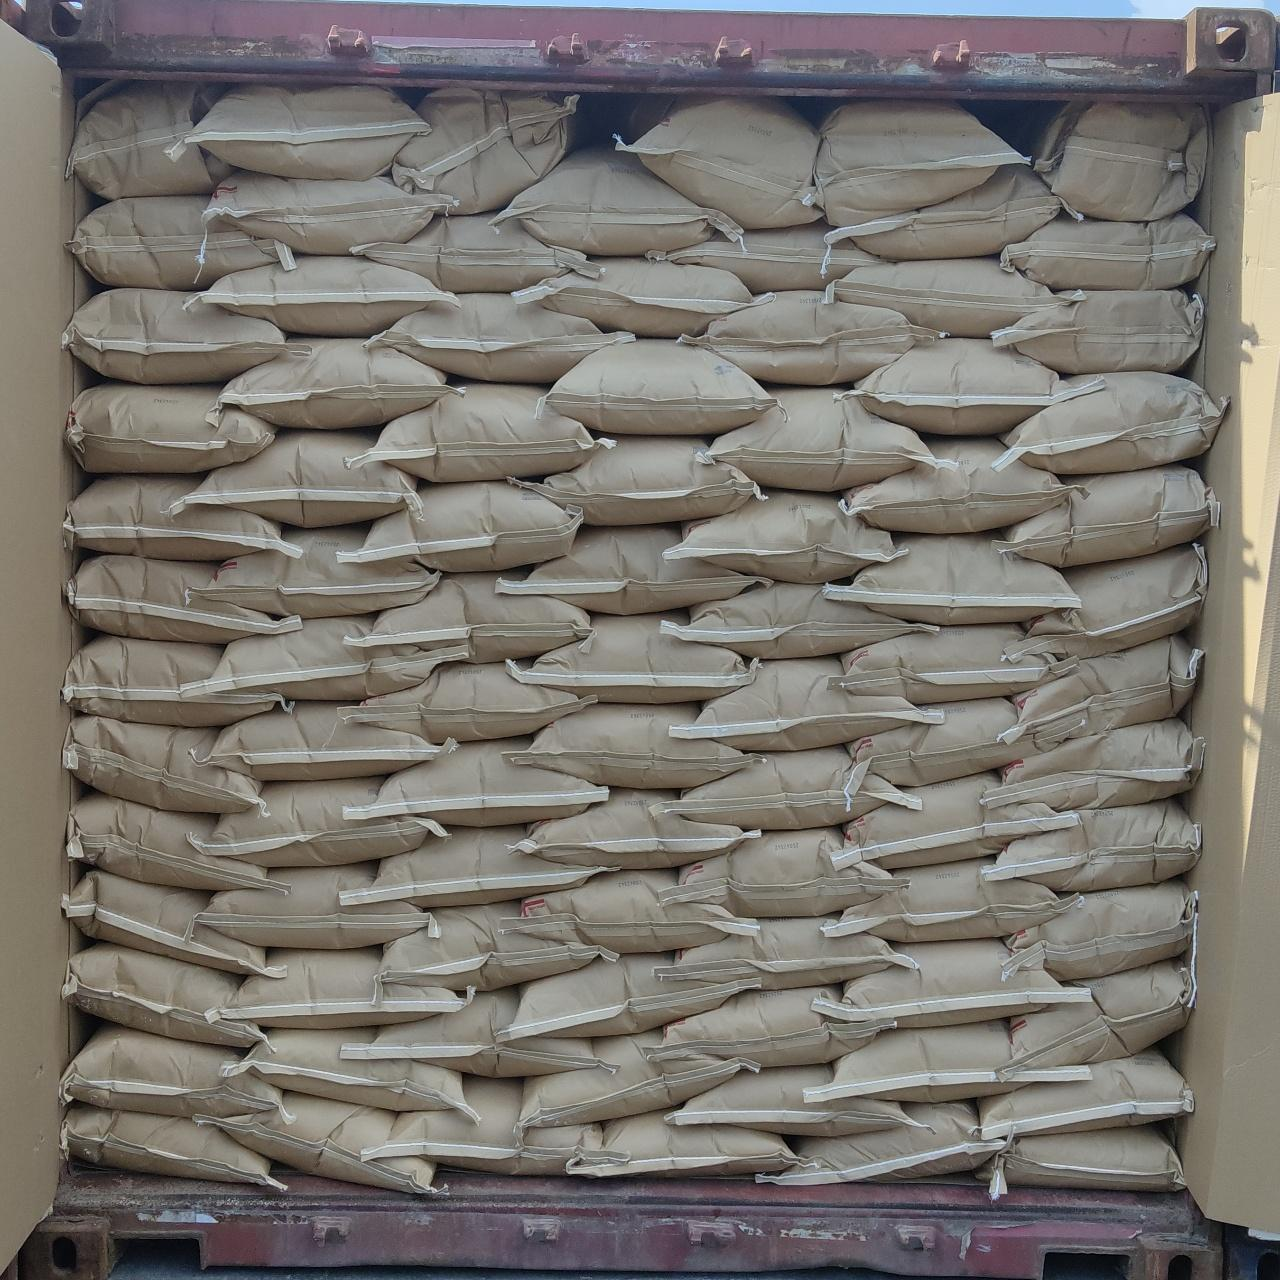sack: (822, 163, 1083, 278), (342, 383, 617, 483), (489, 147, 742, 254), (614, 97, 821, 229), (515, 1029, 760, 1139), (697, 388, 956, 491), (815, 101, 1028, 225), (835, 338, 1104, 434), (362, 1080, 629, 1175), (1000, 951, 1194, 1081), (670, 658, 942, 750), (164, 430, 422, 527), (1003, 542, 1207, 663), (340, 988, 619, 1077), (164, 86, 429, 179), (496, 526, 772, 615), (676, 291, 939, 384), (62, 869, 287, 978), (992, 372, 1228, 474), (1001, 635, 1204, 754), (804, 1020, 1092, 1103), (222, 1030, 481, 1123), (824, 532, 1081, 625), (365, 294, 633, 382), (812, 941, 1088, 1027), (181, 617, 468, 699), (393, 87, 578, 213), (833, 772, 1077, 869), (215, 1094, 441, 1197), (340, 825, 620, 908), (189, 777, 445, 867), (994, 464, 1218, 567), (374, 903, 599, 1005), (206, 339, 467, 427), (343, 741, 608, 826), (345, 573, 595, 663), (651, 747, 921, 830), (63, 942, 277, 1048), (61, 1024, 292, 1122), (186, 527, 437, 617), (183, 256, 458, 336), (542, 339, 776, 434), (508, 614, 757, 703), (658, 828, 907, 917), (68, 794, 290, 893), (501, 954, 760, 1039), (188, 862, 440, 948), (338, 482, 583, 571), (510, 437, 757, 525), (499, 870, 760, 953), (663, 492, 903, 583), (203, 170, 458, 254), (821, 860, 1083, 942), (842, 437, 1065, 533), (68, 196, 297, 290), (64, 715, 270, 819), (756, 1099, 1005, 1185), (190, 702, 458, 781), (645, 986, 894, 1070), (822, 258, 1085, 338), (504, 703, 753, 788), (63, 635, 295, 726), (207, 949, 474, 1028), (62, 290, 285, 383), (338, 662, 595, 743), (842, 697, 1057, 794), (661, 583, 937, 658), (980, 717, 1203, 810), (829, 624, 1078, 704), (69, 556, 298, 644), (64, 475, 302, 559), (1036, 102, 1207, 219), (982, 799, 1200, 891), (1001, 879, 1197, 980), (512, 258, 758, 338), (67, 80, 229, 200), (350, 215, 599, 293), (979, 1049, 1193, 1139), (654, 917, 918, 989), (62, 1104, 286, 1190), (518, 791, 758, 869), (66, 384, 275, 472), (667, 1065, 928, 1136), (992, 290, 1201, 373), (647, 222, 880, 293), (567, 1112, 819, 1177), (1001, 215, 1214, 290), (976, 1125, 1185, 1191)
